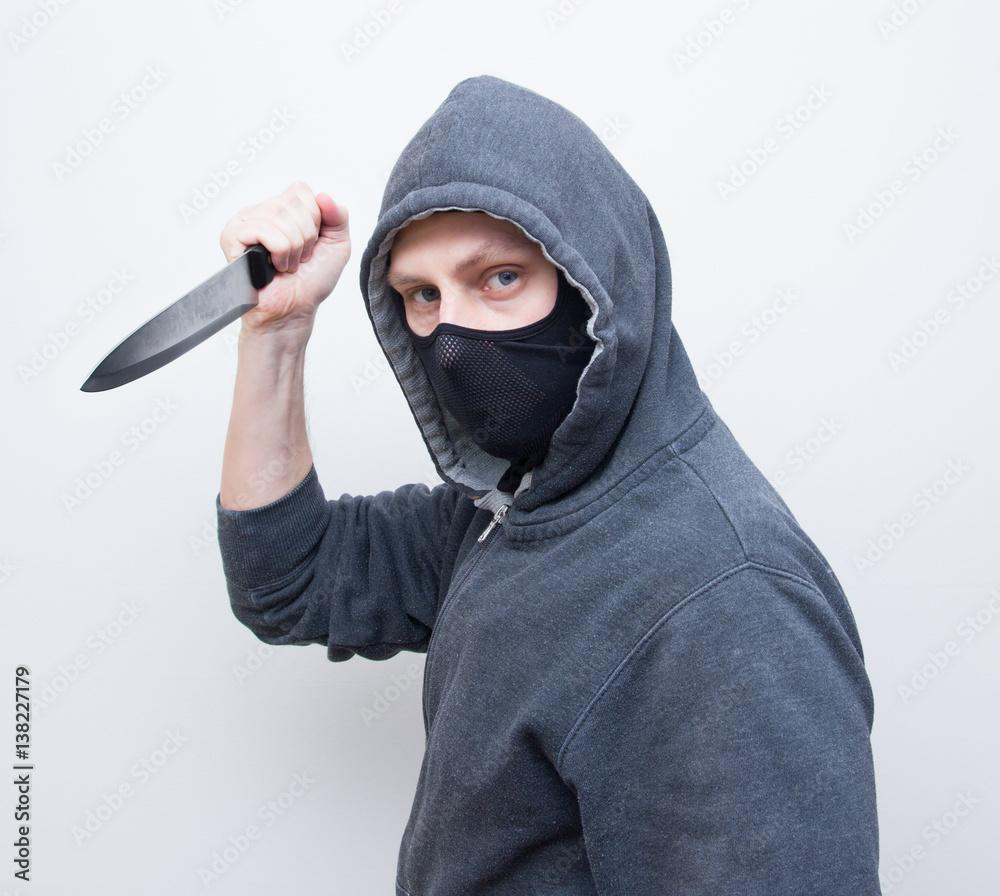Knife: (219, 76, 884, 896), (79, 231, 266, 400), (219, 183, 350, 316)
